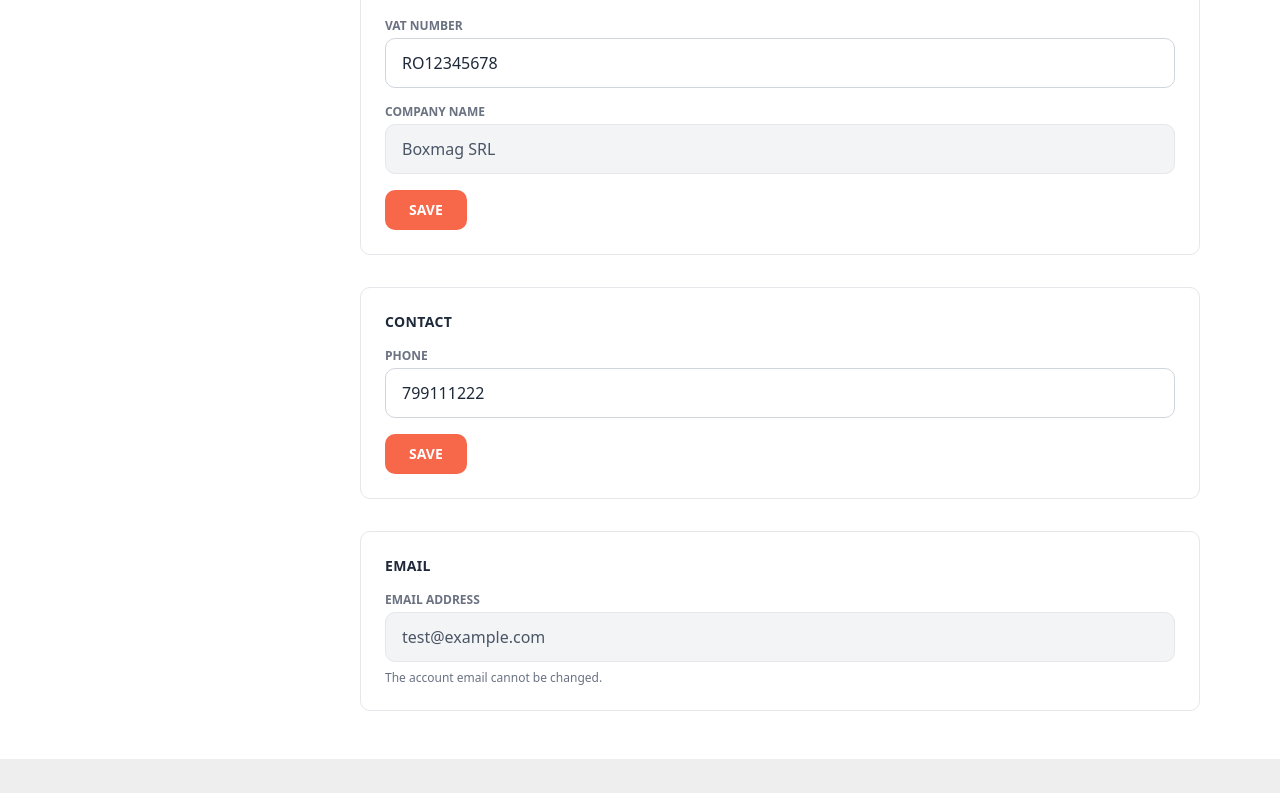
Test: /account – tab My Account (logat) › permite introducerea numărului de telefon complet
The width and height of the screenshot is (1280, 793).
(page scrolled)
Replace the text in the field with id "acc-phone" with "+40721234567": (780,393) [385,368,1175,418]
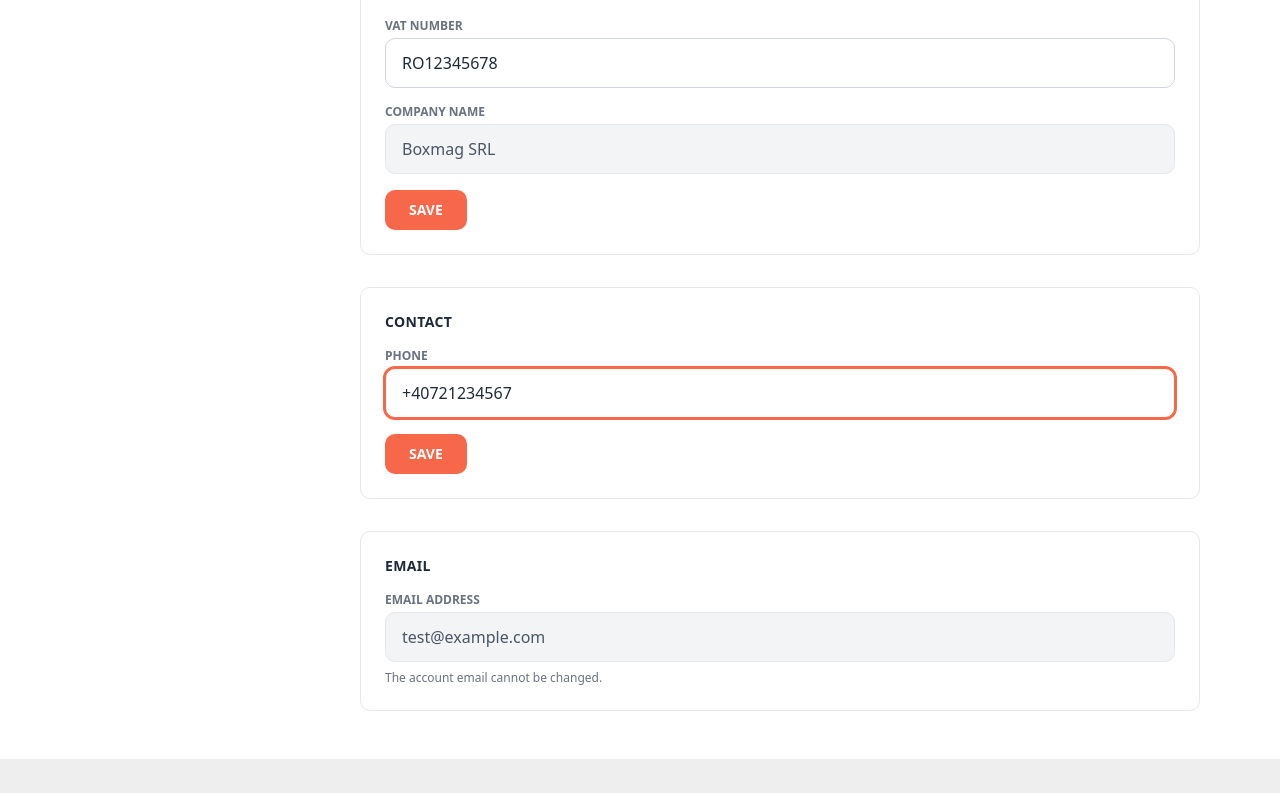
Now the field with id "acc-phone" holds "+40721234567", box [385,368,1175,418]
